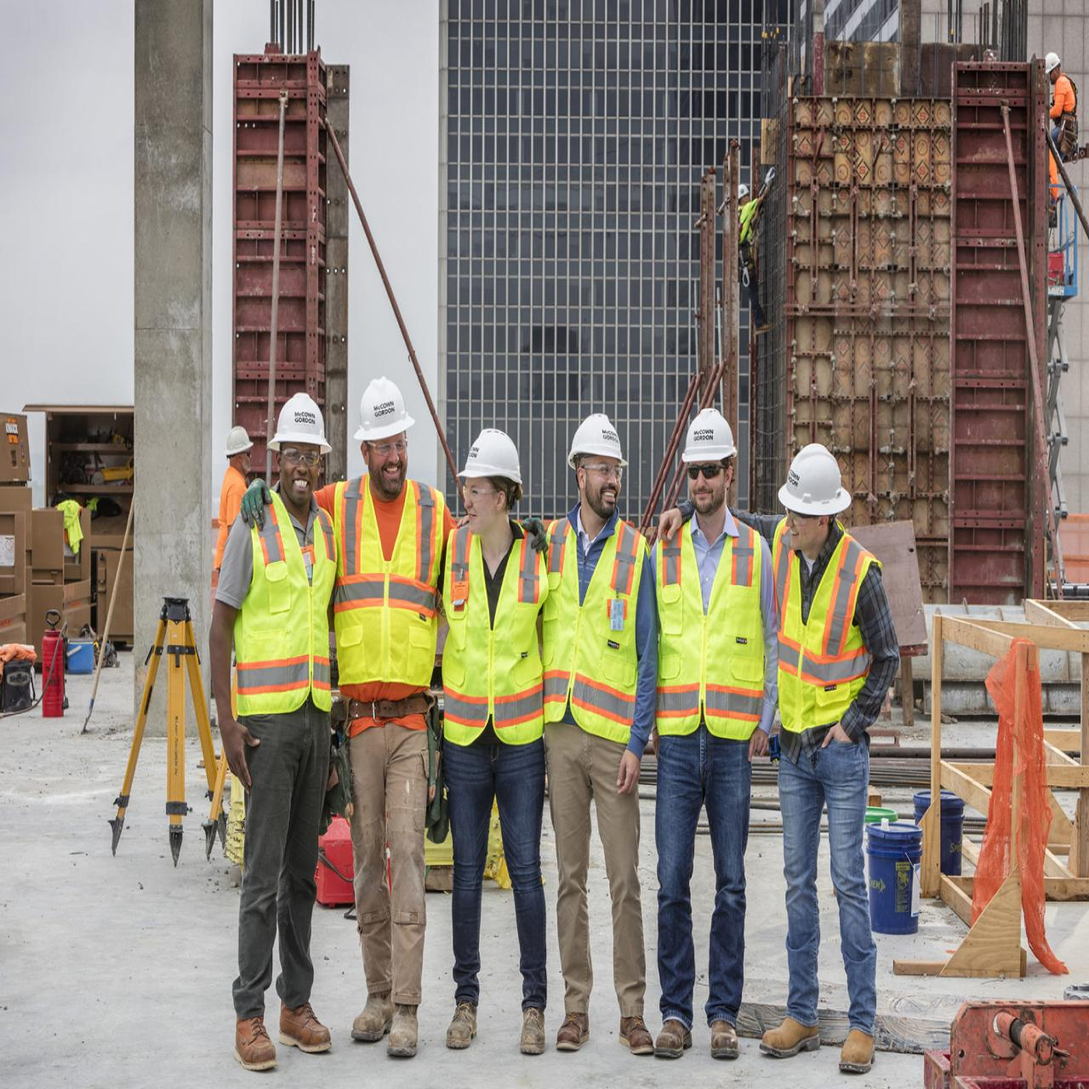NO_Safety_Vest: (218, 465, 248, 547)
Person: (320, 360, 452, 1052), (208, 382, 338, 1075), (646, 404, 780, 1058), (763, 422, 897, 1070), (542, 402, 662, 1066), (440, 408, 557, 1062), (214, 417, 252, 585)
Safety_Vest: (660, 511, 763, 751), (231, 499, 338, 730), (335, 469, 439, 696), (544, 512, 643, 750), (771, 516, 877, 738), (445, 522, 545, 749)
